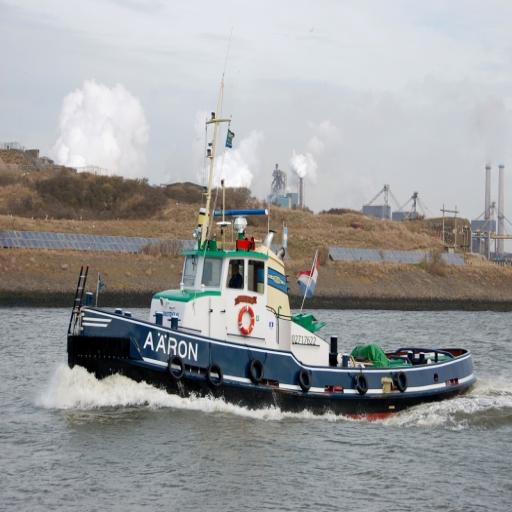tugboat: (64, 67, 480, 428)
